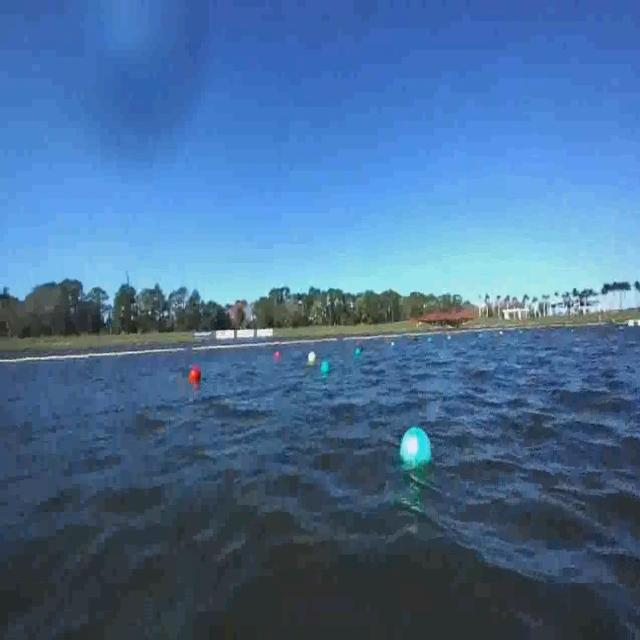green-buoy: (400, 427, 434, 470), (321, 359, 330, 374)
red-buoy: (191, 366, 203, 382)
yellow-buoy: (306, 352, 315, 366)
